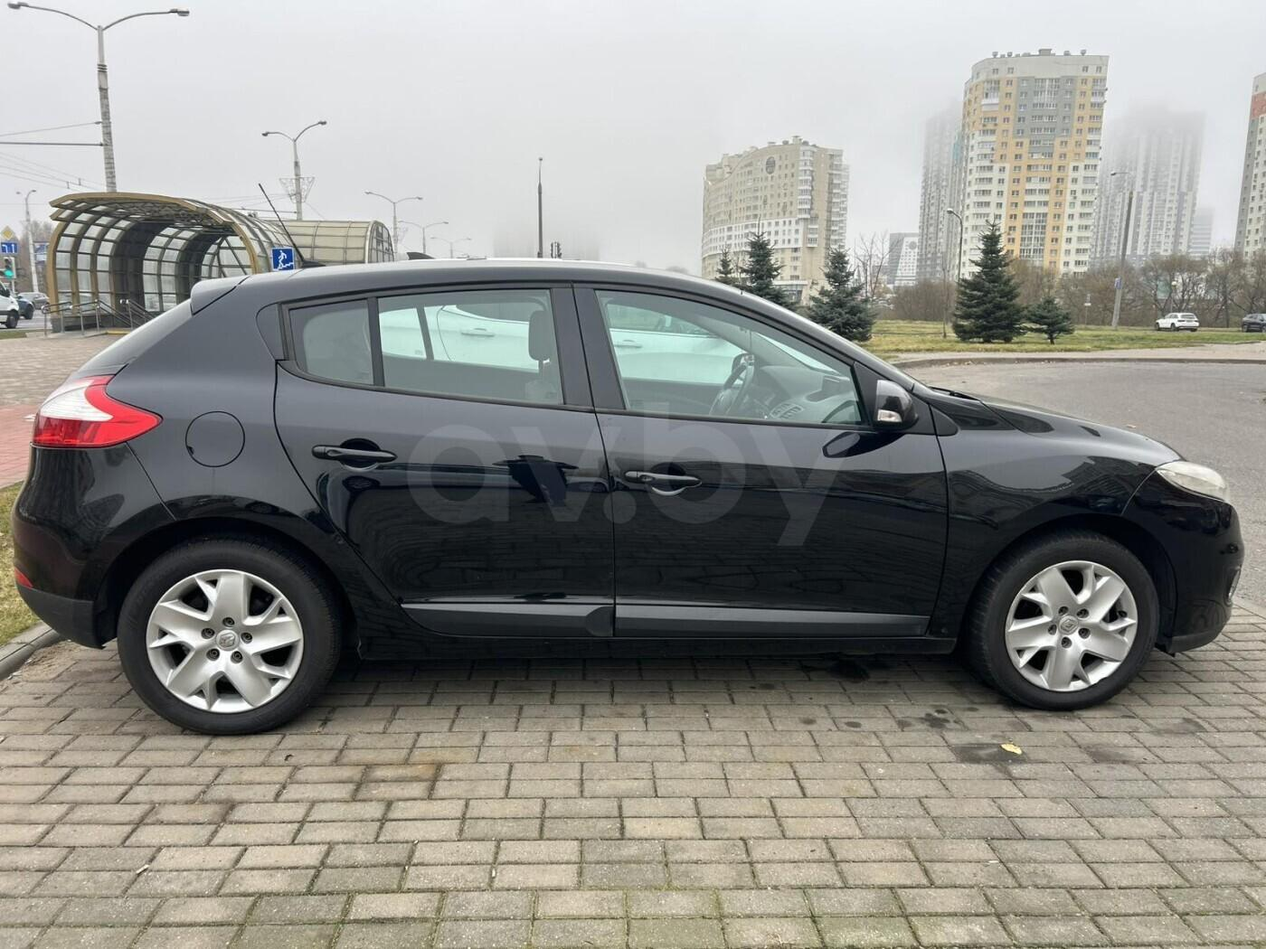Megane_2008-2014: (18, 260, 1260, 742)
